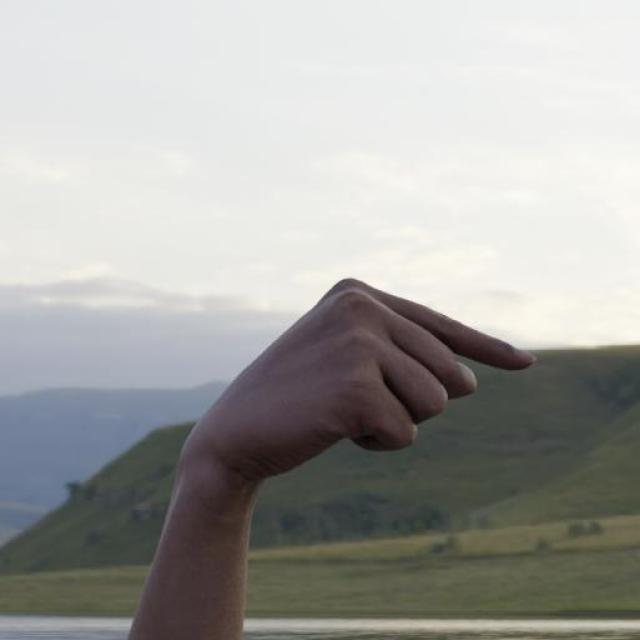G: (186, 272, 543, 470)
